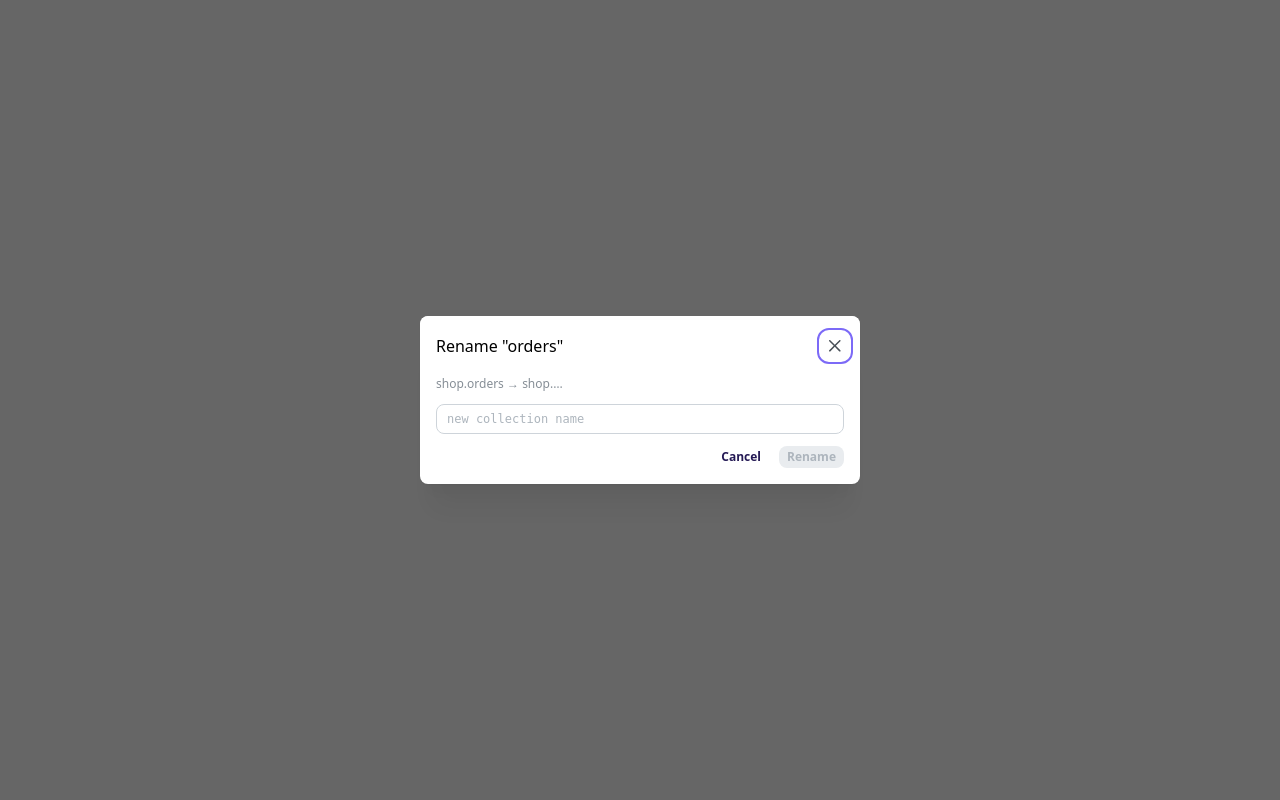
RenameCollectionModal › shows an inline error on CONFLICT
Type "existing" into the field named "New name".
click(640, 419); type("existing")  # box left=436, top=404, right=844, bottom=434
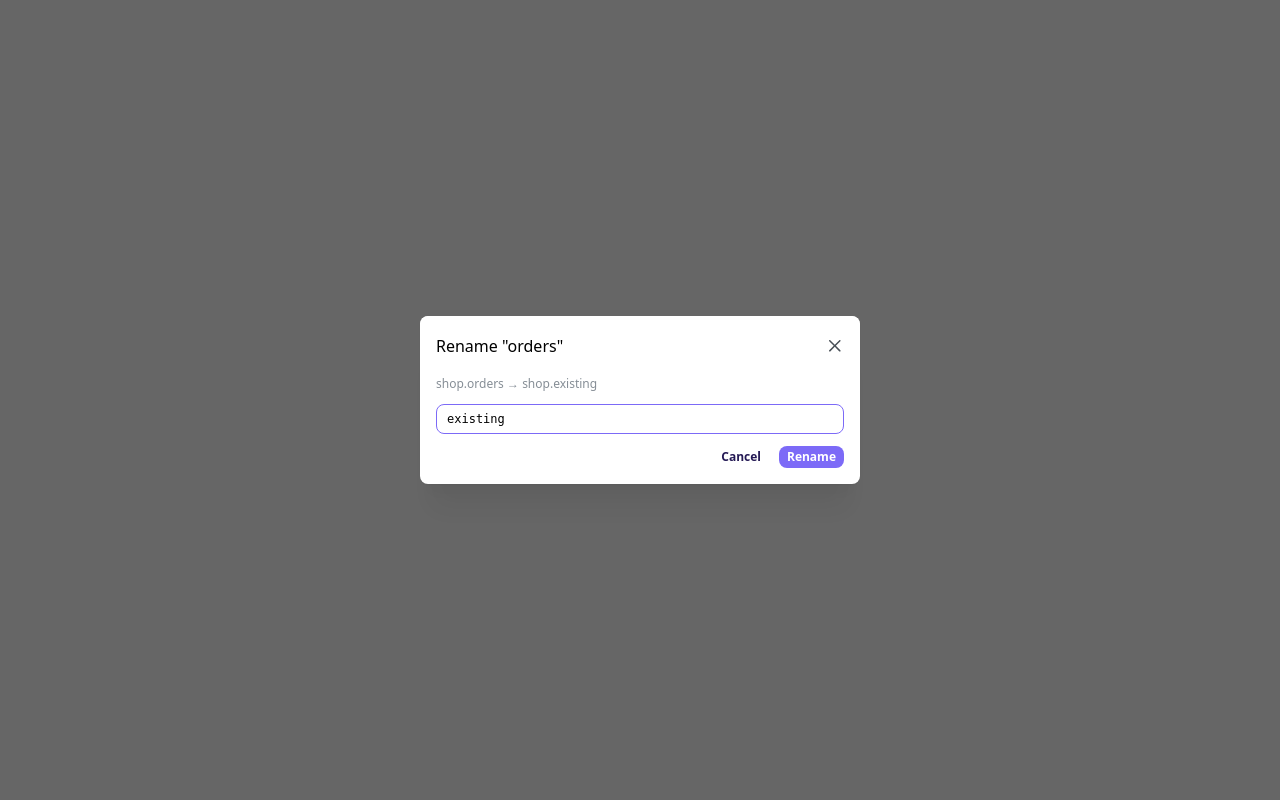
Click the button "Rename".
click(812, 457)  # box left=779, top=446, right=844, bottom=468
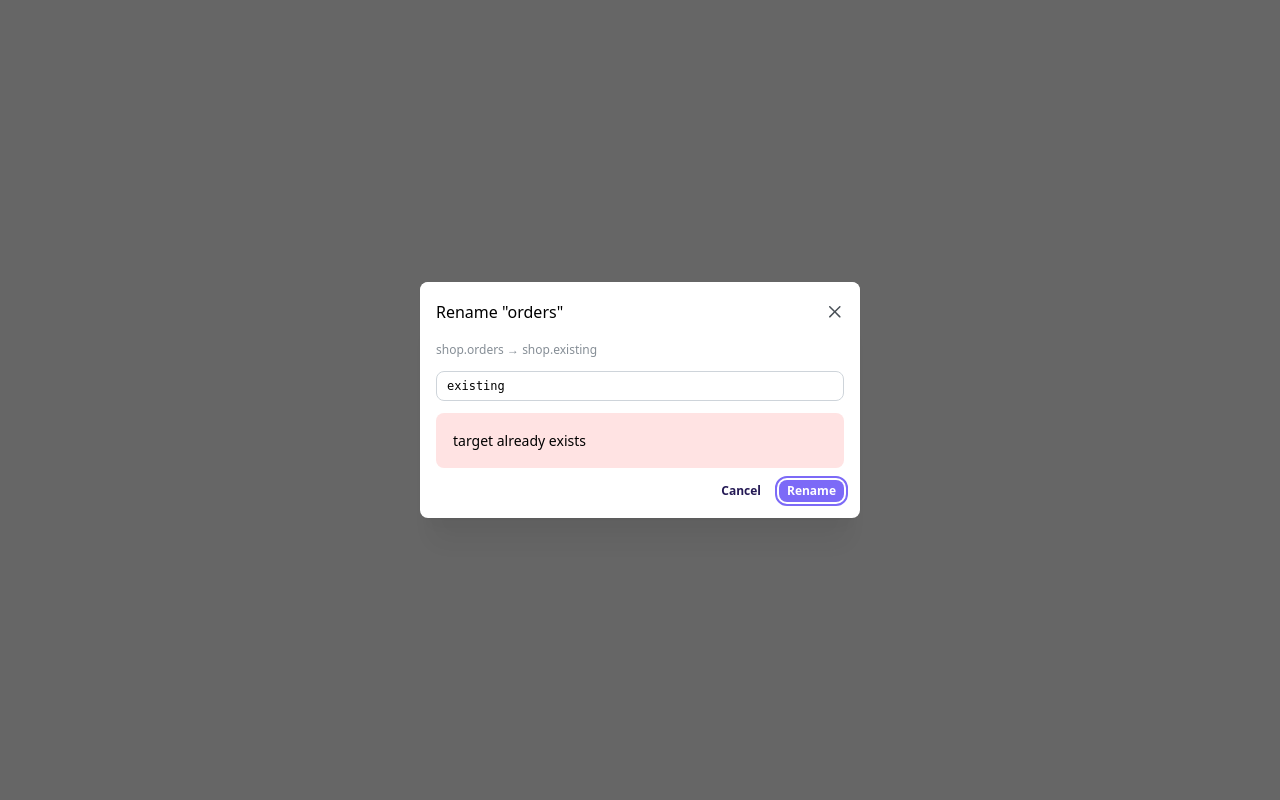
Result: the message shows "already exists" at left=453, top=430, right=586, bottom=450
